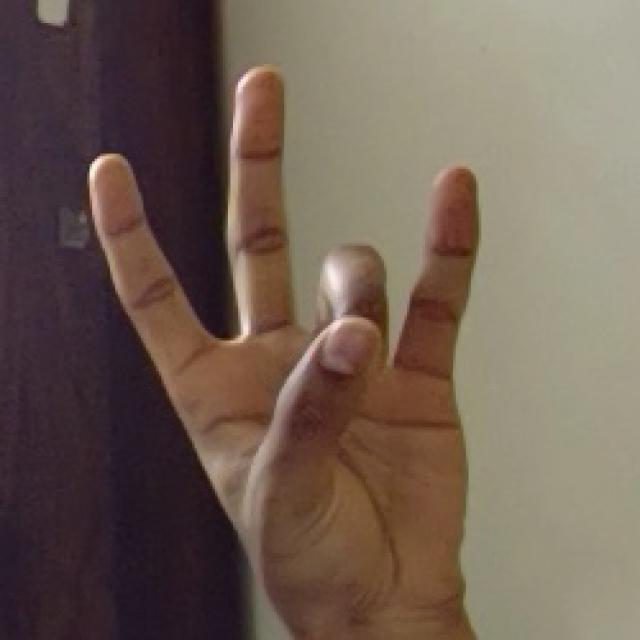Numeric-7: (89, 66, 478, 639)
